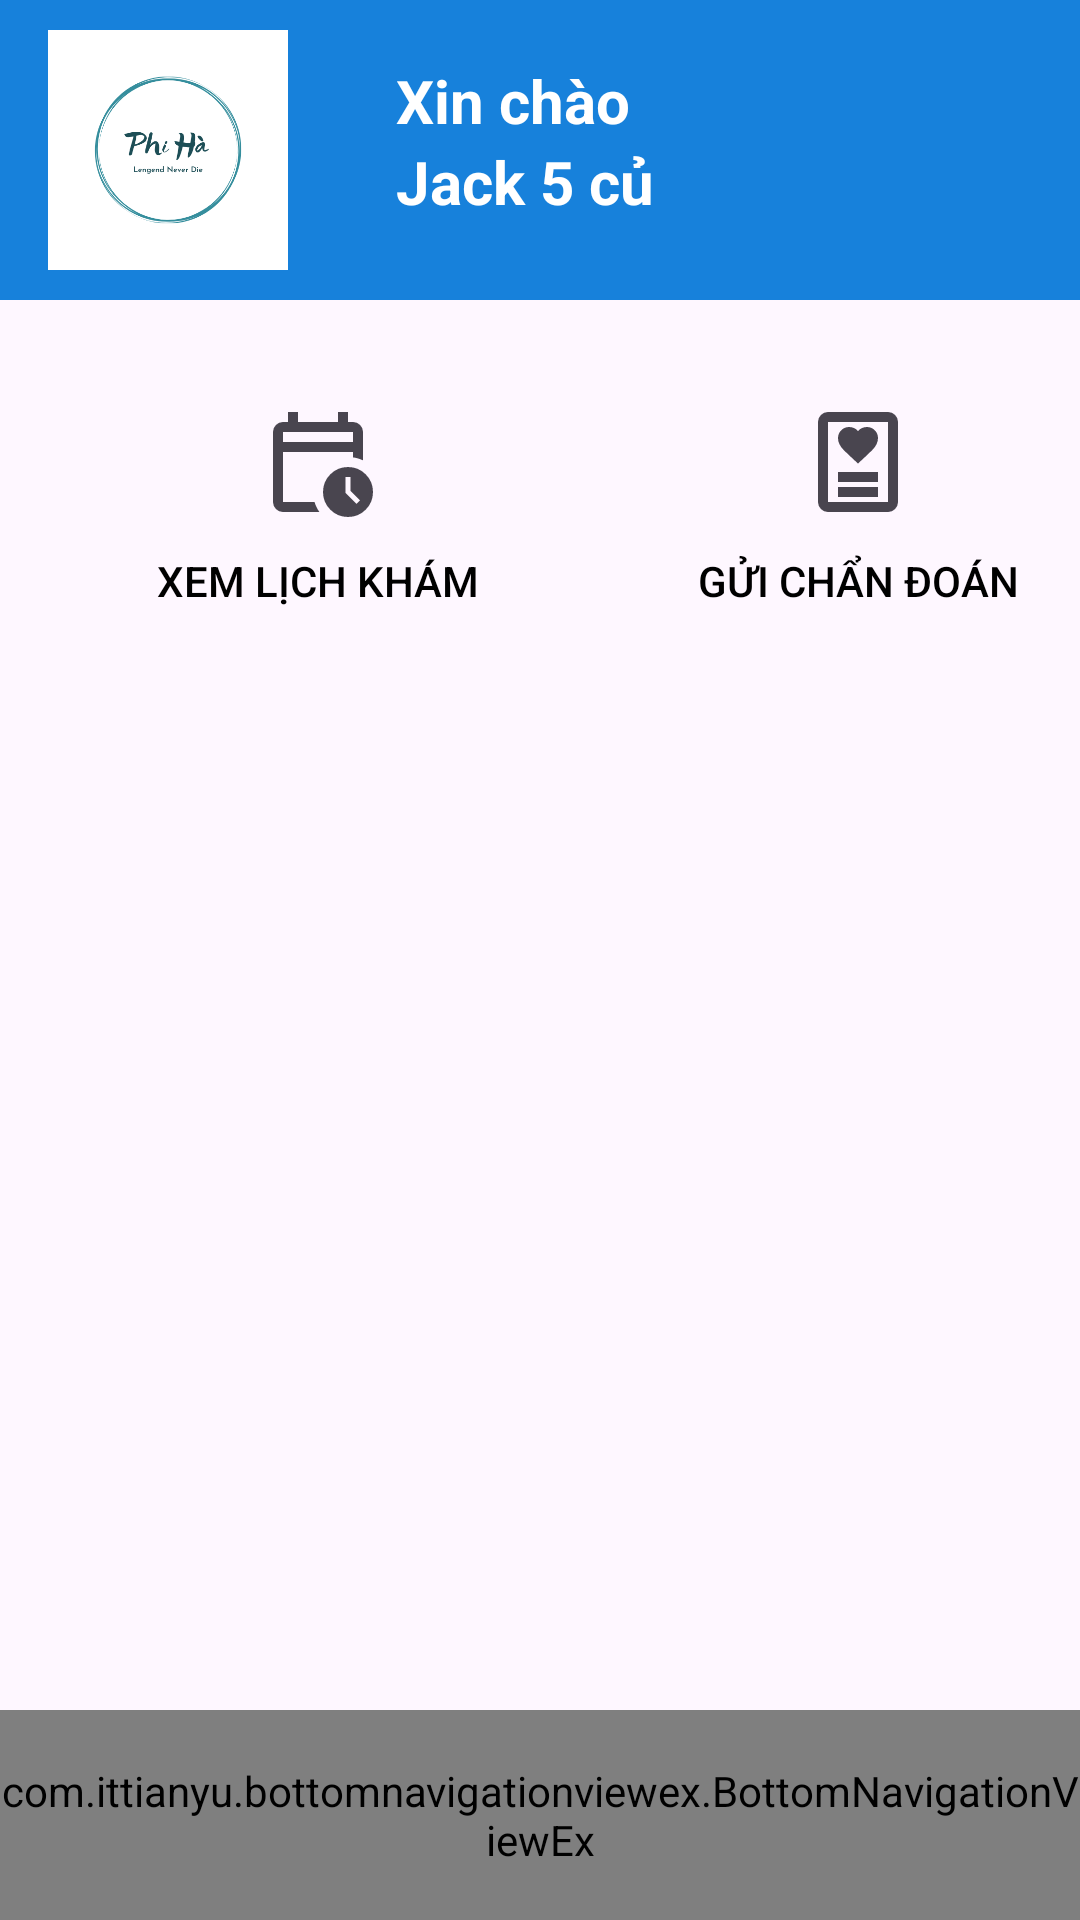

Named icons in this screenshot (1080*1920) and their centers, (x,y):
Avatar của người dùng: (168,150)
